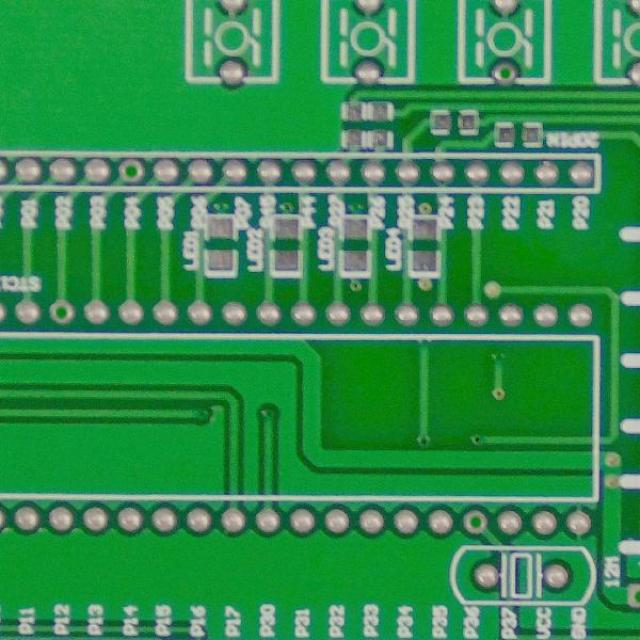Missing_Hole: (490, 58, 520, 88), (460, 506, 490, 536), (115, 157, 147, 184), (47, 298, 77, 325), (624, 579, 639, 610)
